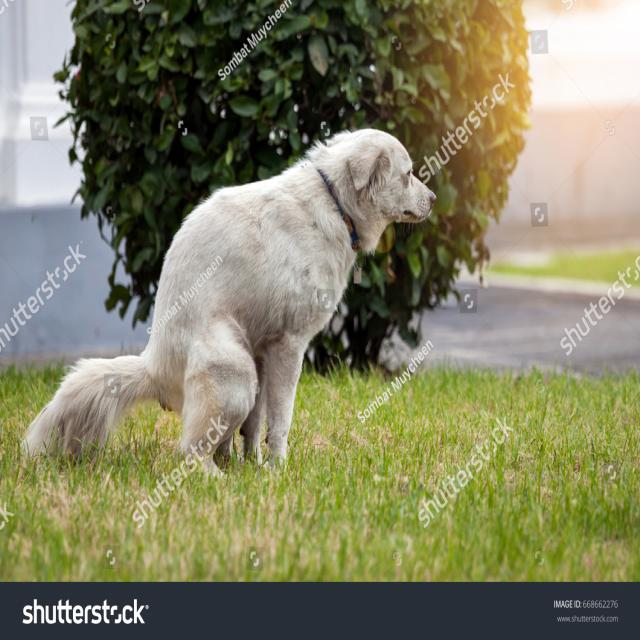Dogpoop: (18, 122, 440, 474)
